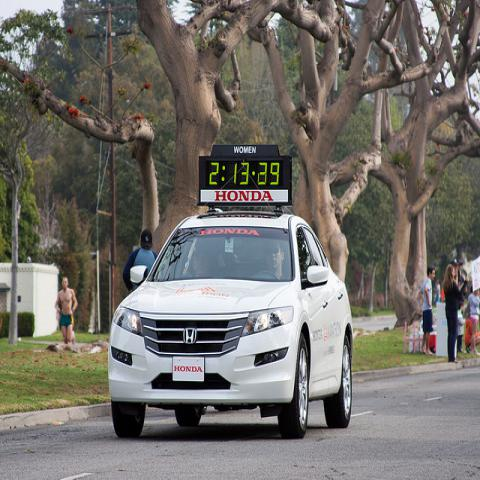car: (106, 204, 353, 444)
